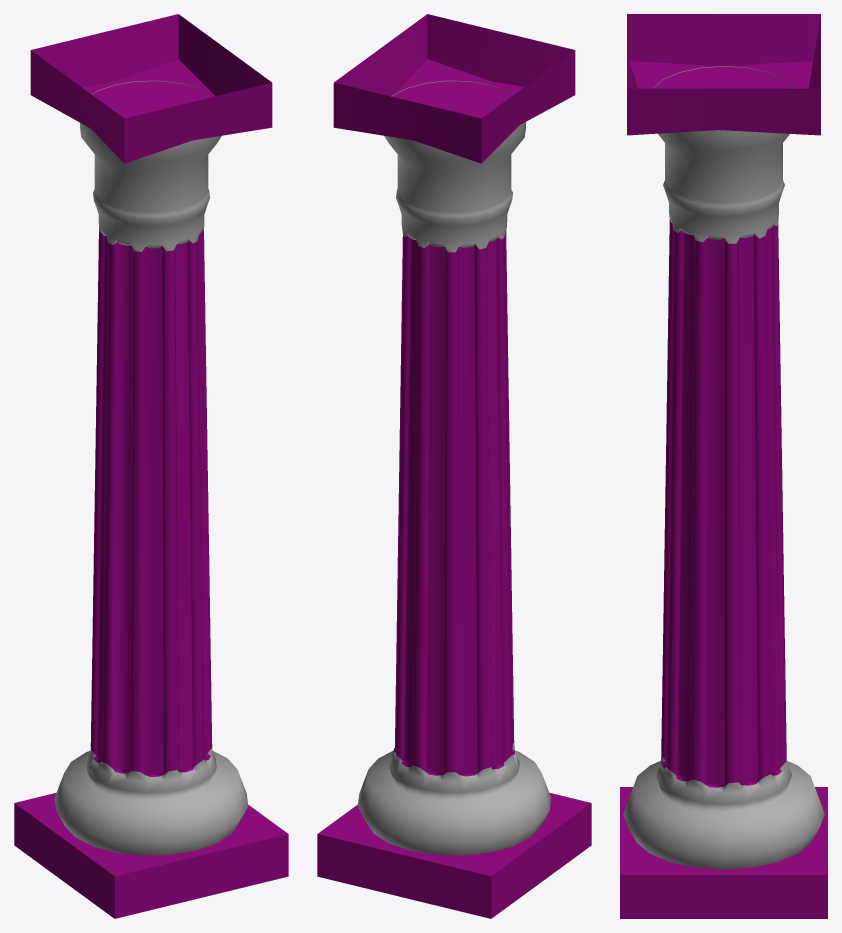
Rendered from GreekPillar.fbx.
The picture shows the model from 3 angles, left to right: view 1: azimuth 30°, elevation 25°; view 2: azimuth 150°, elevation 25°; view 3: azimuth 270°, elevation 25°; orthographic projection. The views are drawn at different scales.
Parts seen in each view (by area): view 1: polySurface1; view 2: polySurface1; view 3: polySurface1.
Boxes of the visible parts, <box> form: polySurface1: <box>14,14,288,918</box>; polySurface1: <box>317,14,591,918</box>; polySurface1: <box>620,14,827,918</box>.
Bounding box in the file's own units: 2.29 × 10.01 × 2.29.
